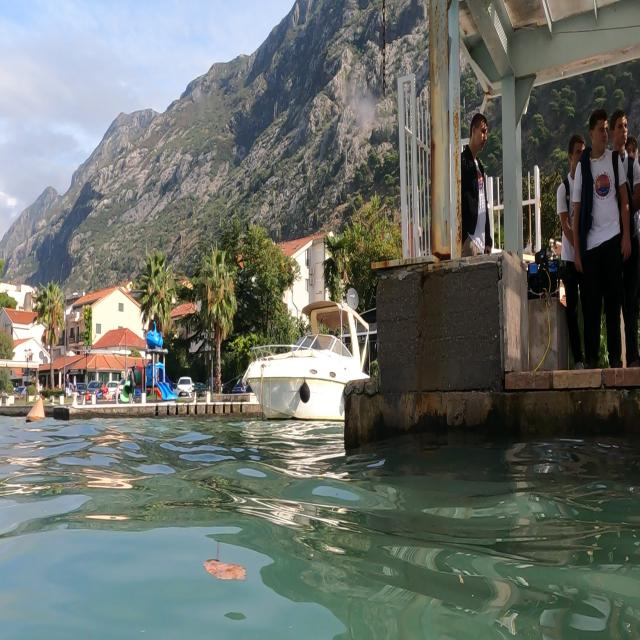boat: (240, 290, 372, 424)
buoy: (22, 390, 50, 432)
